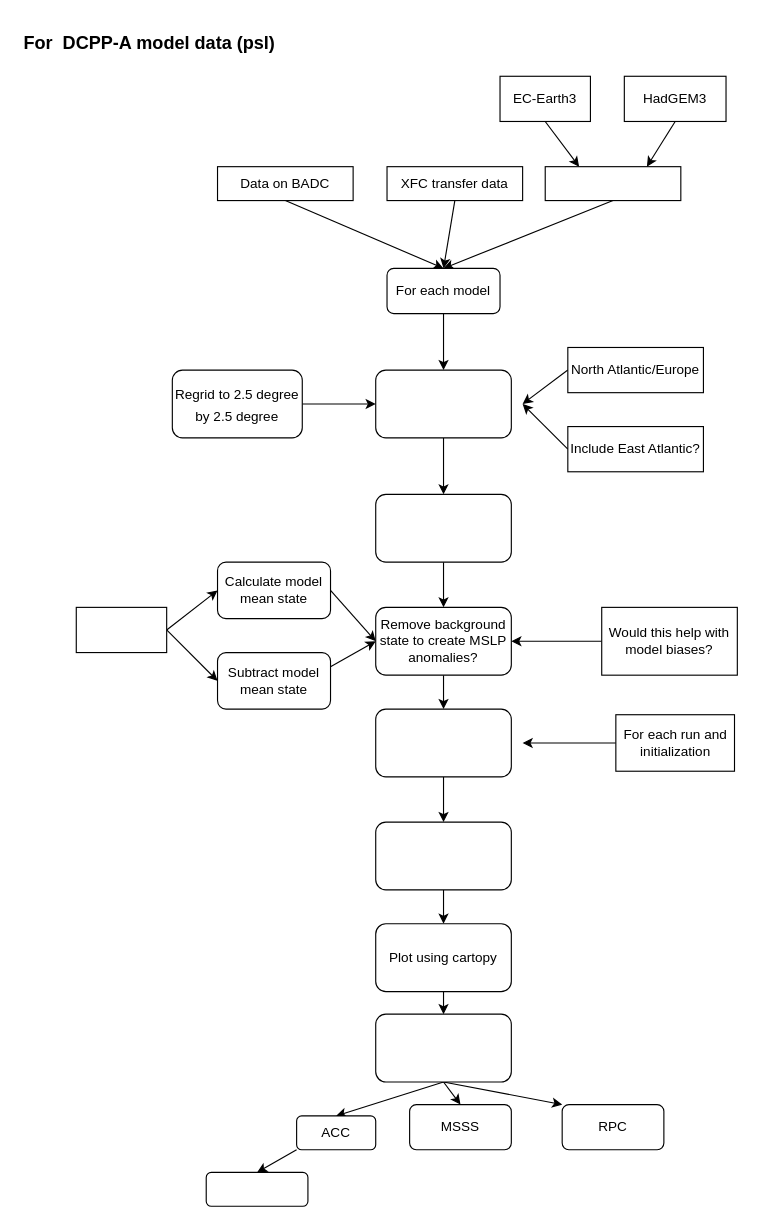
Image size: 757x1226. Some labels were removed from this diagram. Each missing label, with the centre of its shape:
"10-member ACC" goes at [256,1188].
"Compare with observations" goes at [443,1047].
"Consider init scheme" goes at [121,629].
"Merged multi-file" goes at [612,183].
"Mergetime to create dataset 1961-2014" goes at [443,855].
"Select gridbox" goes at [443,403].
"Select years 2-9 DJFM" goes at [443,527].
"Take year 2-9 time mean" goes at [443,742].
